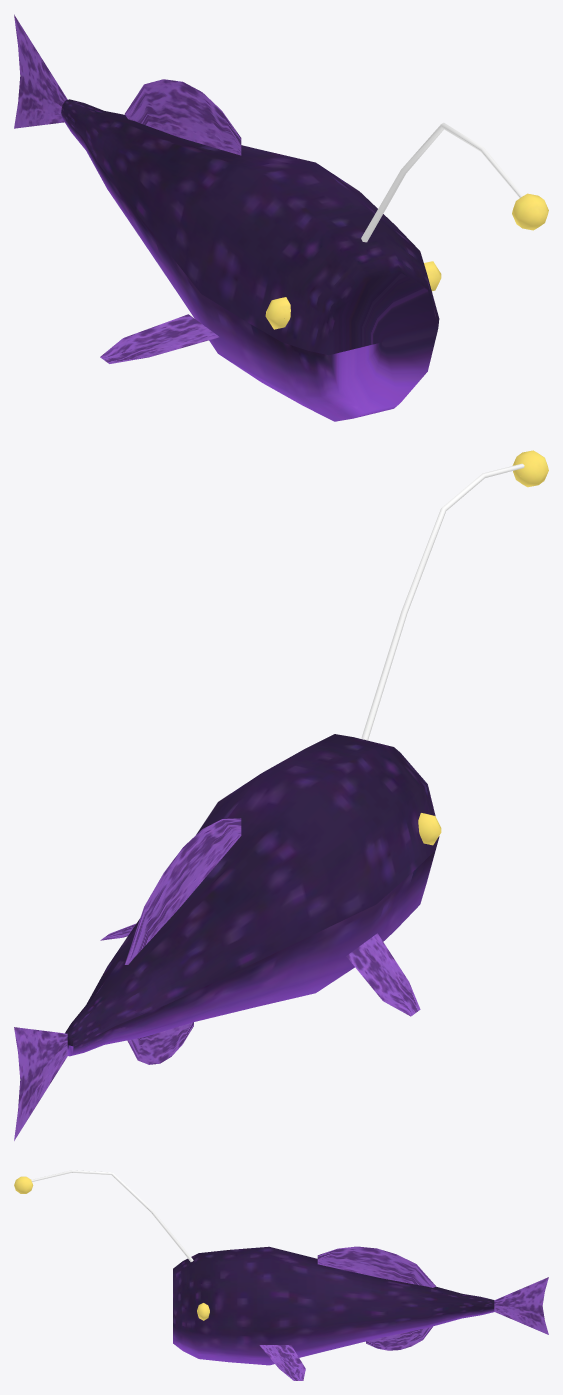
File: alien_lantern_angler.glb
3 renders of one model, top to bottom at view 1: azimuth 30°, elevation 25°; view 2: azimuth 150°, elevation 25°; view 3: azimuth 270°, elevation 25°, orthographic. The views are drawn at different scales.
Bounding box in the file's own units: 0.7961 × 0.9064 × 2.33.
Materials: 1 (1 with a texture image).
